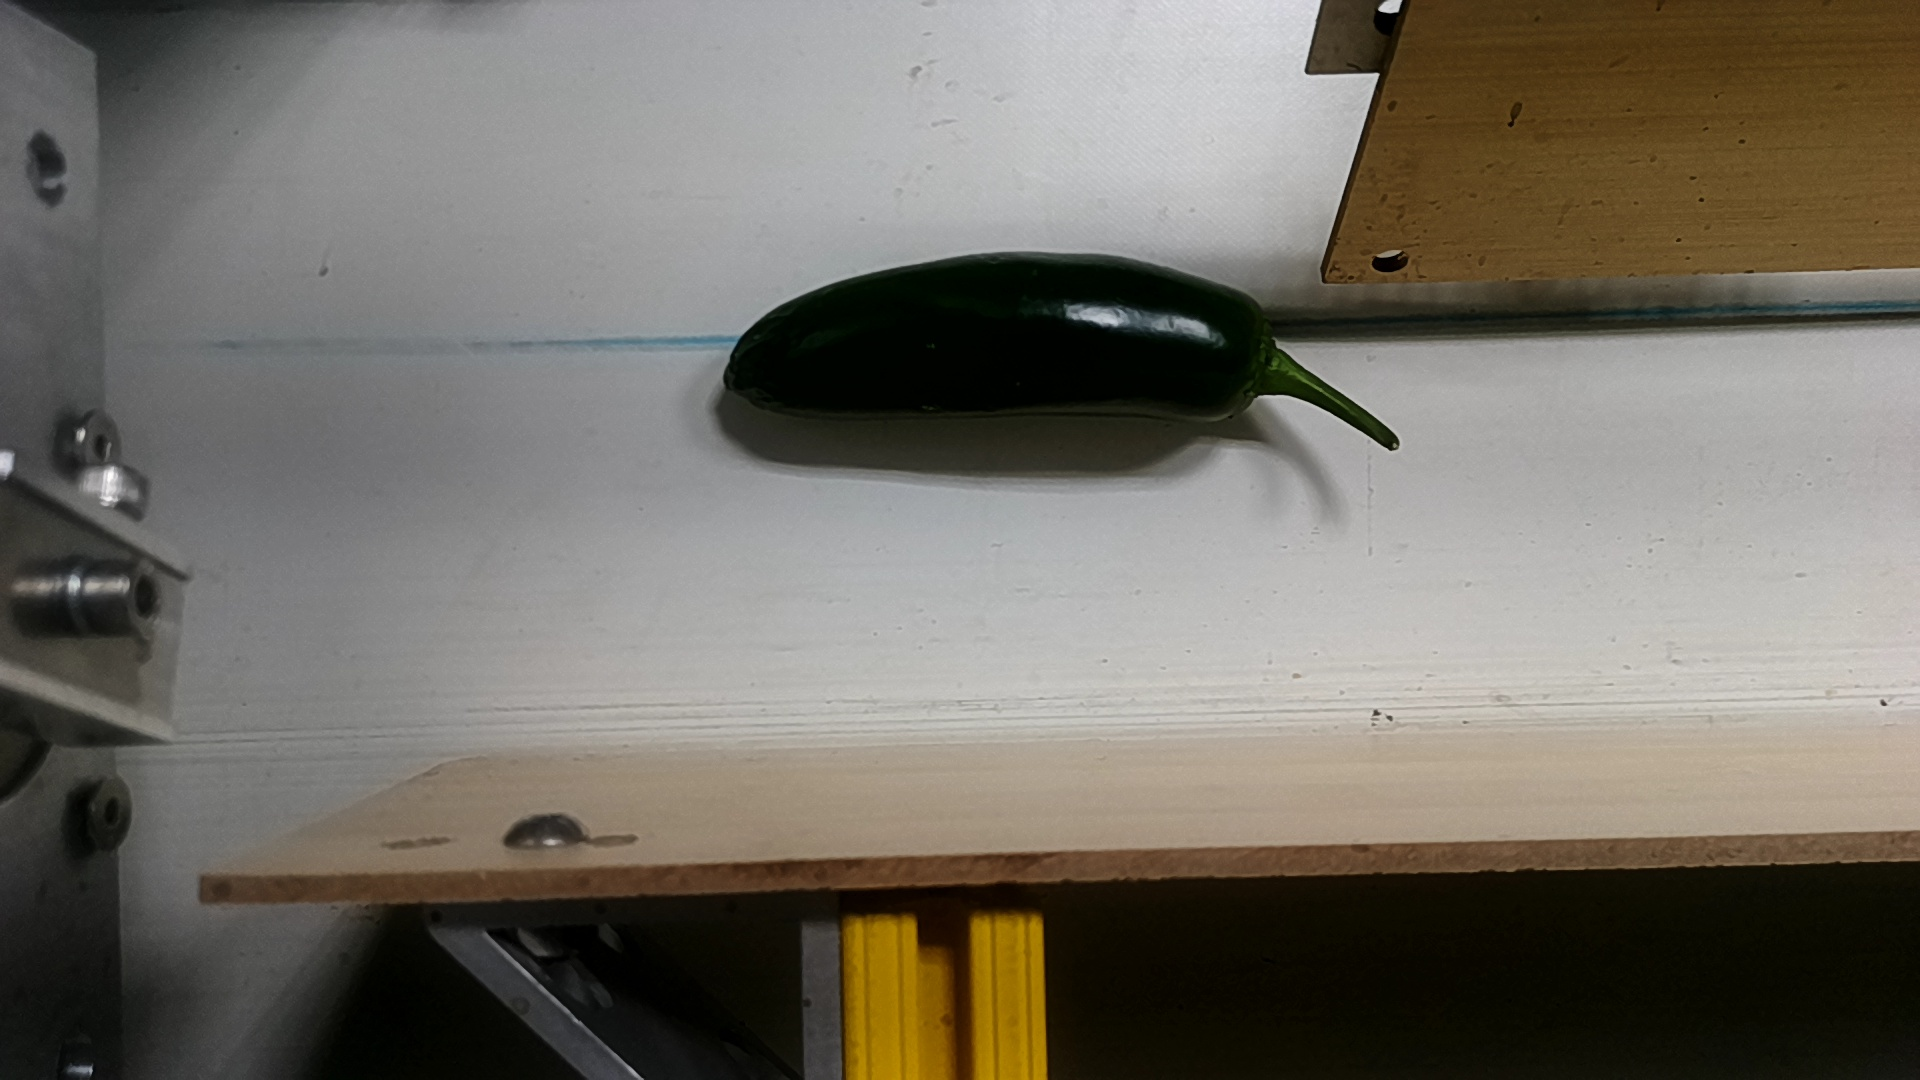Cut Point: (1213, 284, 1305, 429)
